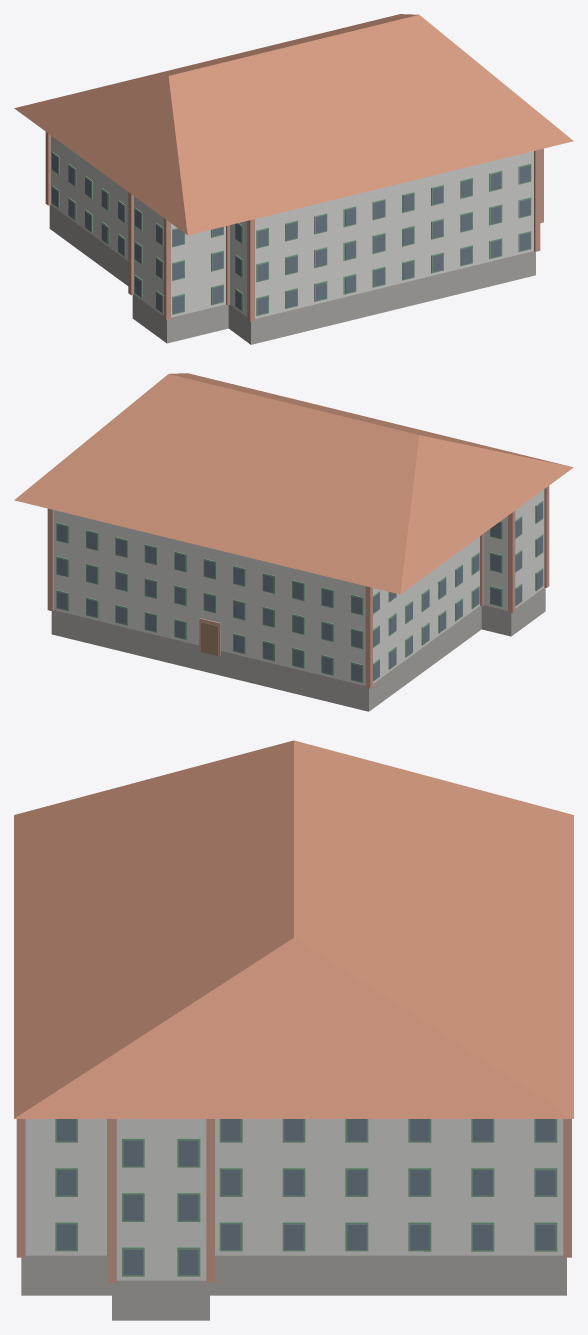
Rendered from manor-schloss-buergeln.glb.
3 renders of one model, top to bottom at view 1: azimuth 30°, elevation 25°; view 2: azimuth 150°, elevation 25°; view 3: azimuth 270°, elevation 25°, orthographic. The views are drawn at different scales.
Visible parts, largest first — view 1: building; view 2: building; view 3: building.
Part boxes in pixels (<box>): building: <box>14,14,573,344</box>; building: <box>14,373,573,711</box>; building: <box>14,740,573,1320</box>.
Bounding box in the file's own units: 40.73 × 20.8 × 31.73.
